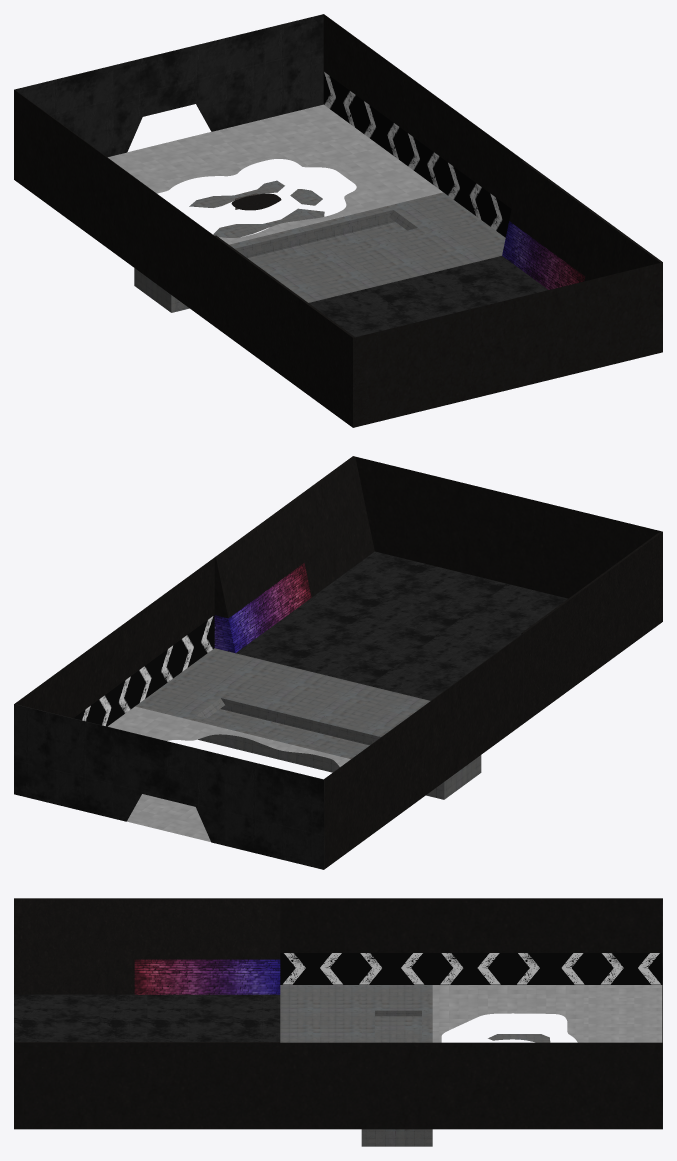
File: FloorV1.fbx
3 renders of one model, top to bottom at view 1: azimuth 30°, elevation 25°; view 2: azimuth 150°, elevation 25°; view 3: azimuth 270°, elevation 25°, orthographic. The views are drawn at different scales.
Parts seen in each view (by area): view 1: SkateAreaMid1; view 2: SkateAreaMid1; view 3: SkateAreaMid1.
Part boxes in pixels (<box>): SkateAreaMid1: <box>14,14,662,427</box>; SkateAreaMid1: <box>14,456,662,869</box>; SkateAreaMid1: <box>14,898,662,1146</box>.
Size of the model in its own units: 90 by 30 by 171.
1 material, 1 textured.
